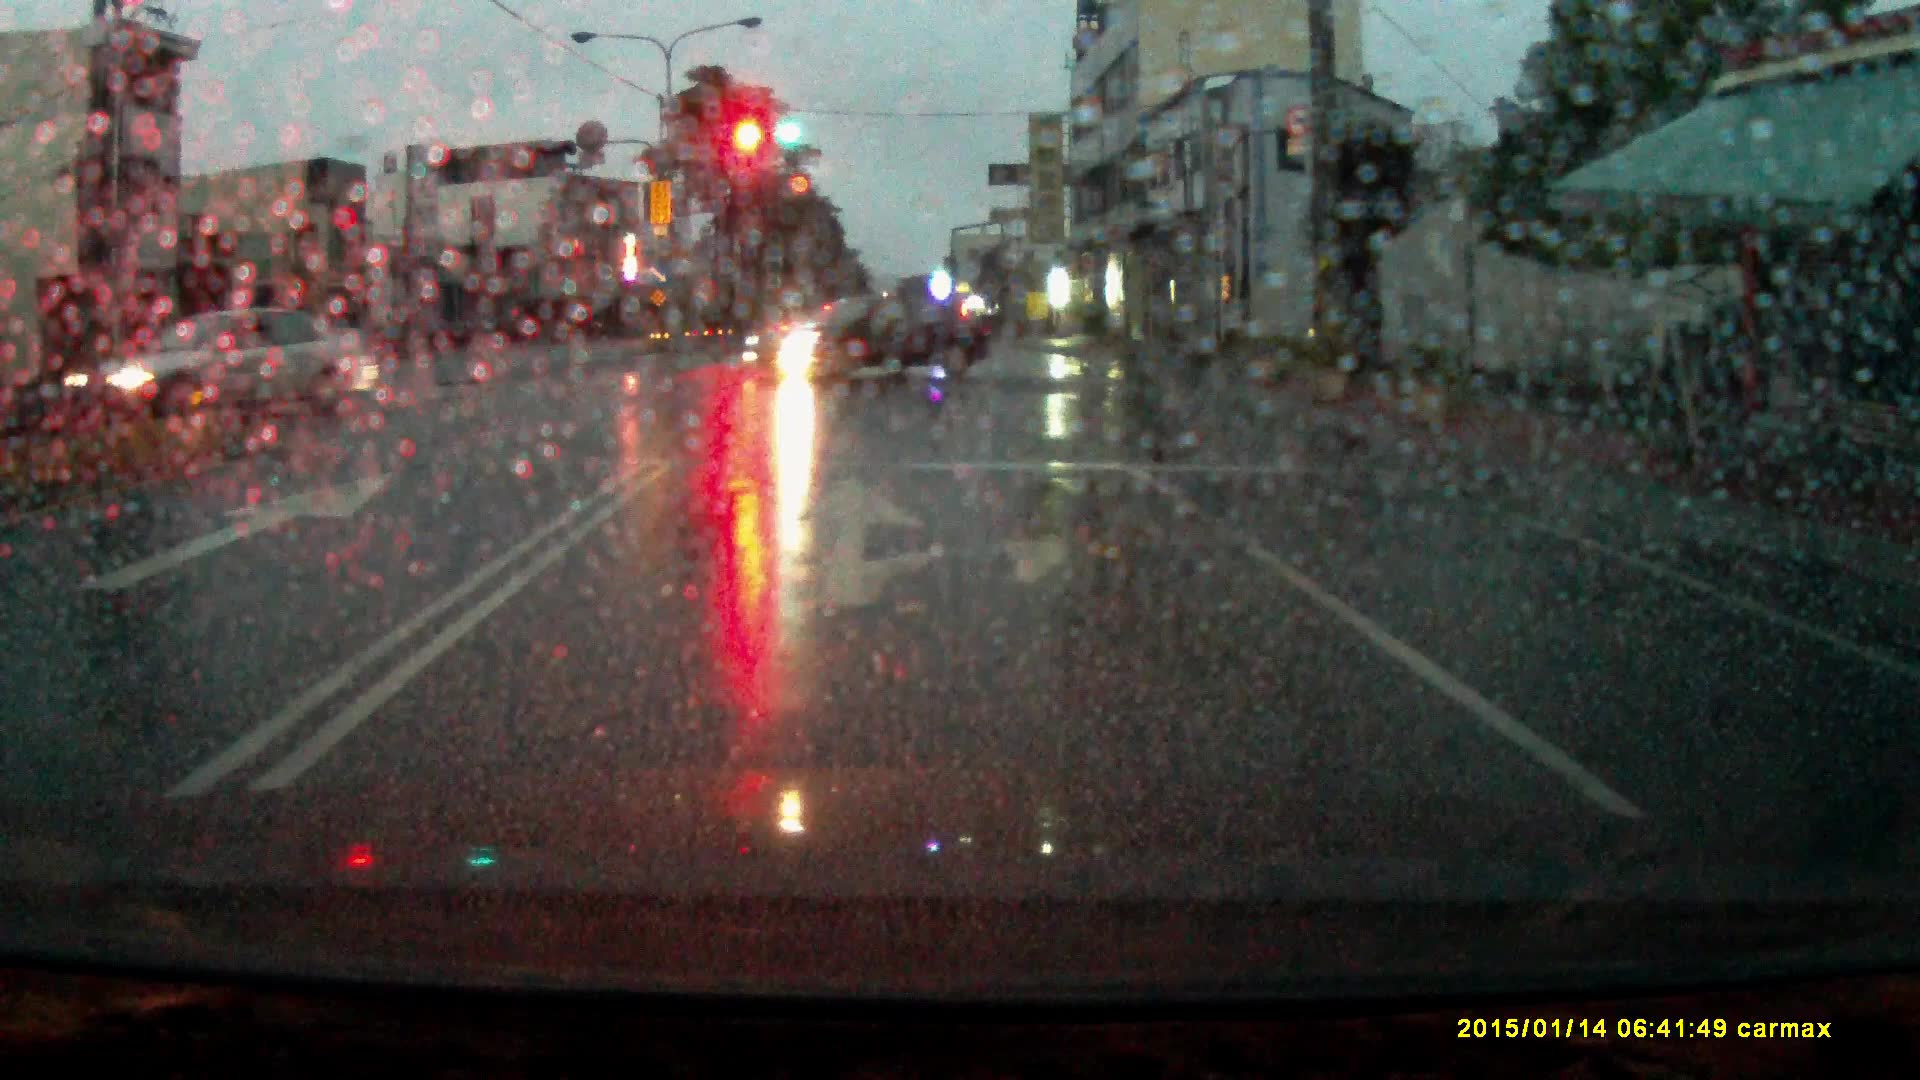vehicle: (57, 305, 382, 418), (742, 289, 992, 384)
